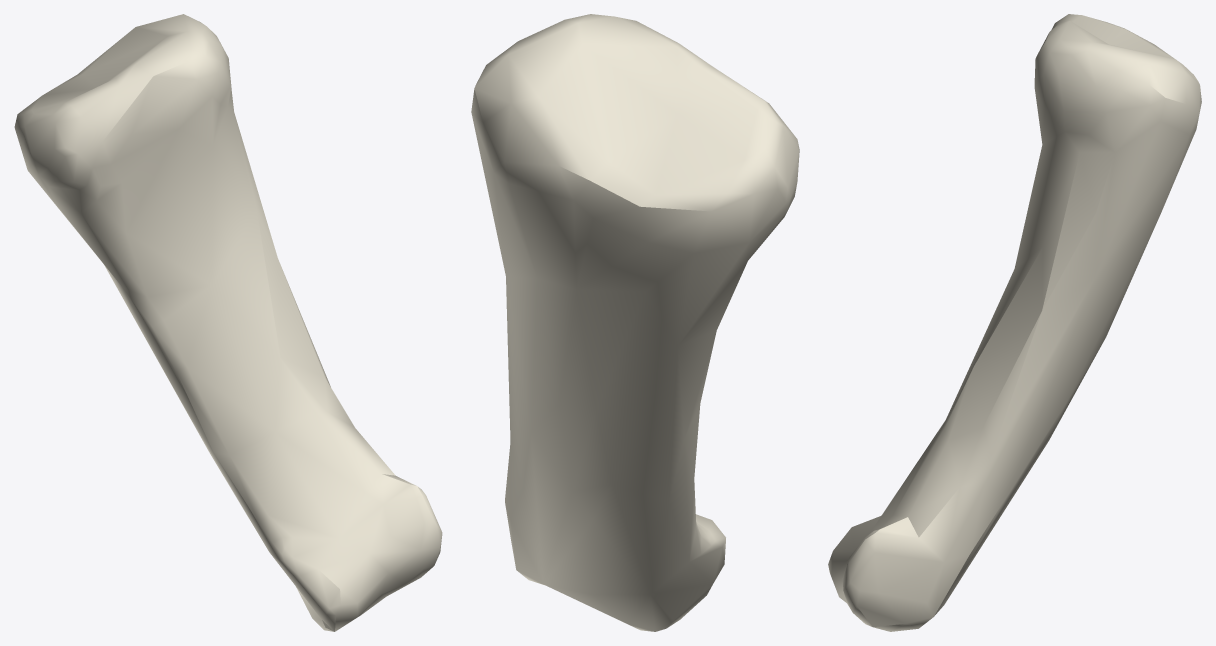
Rendered from fma71915_fj3313.glb.
3 views of the same model, side by side, from view 1: azimuth 30°, elevation 25°; view 2: azimuth 150°, elevation 25°; view 3: azimuth 270°, elevation 25° (orthographic). The views are drawn at different scales.
Parts seen in each view (by area): view 1: FMA71915_FJ3313; view 2: FMA71915_FJ3313; view 3: FMA71915_FJ3313.
Part boxes in pixels (x1,y1,x2,y2): FMA71915_FJ3313: [14, 14, 442, 631]; FMA71915_FJ3313: [471, 14, 799, 631]; FMA71915_FJ3313: [828, 14, 1201, 631].
Size of the model in its own units: 0.022 by 0.0376 by 0.023.
